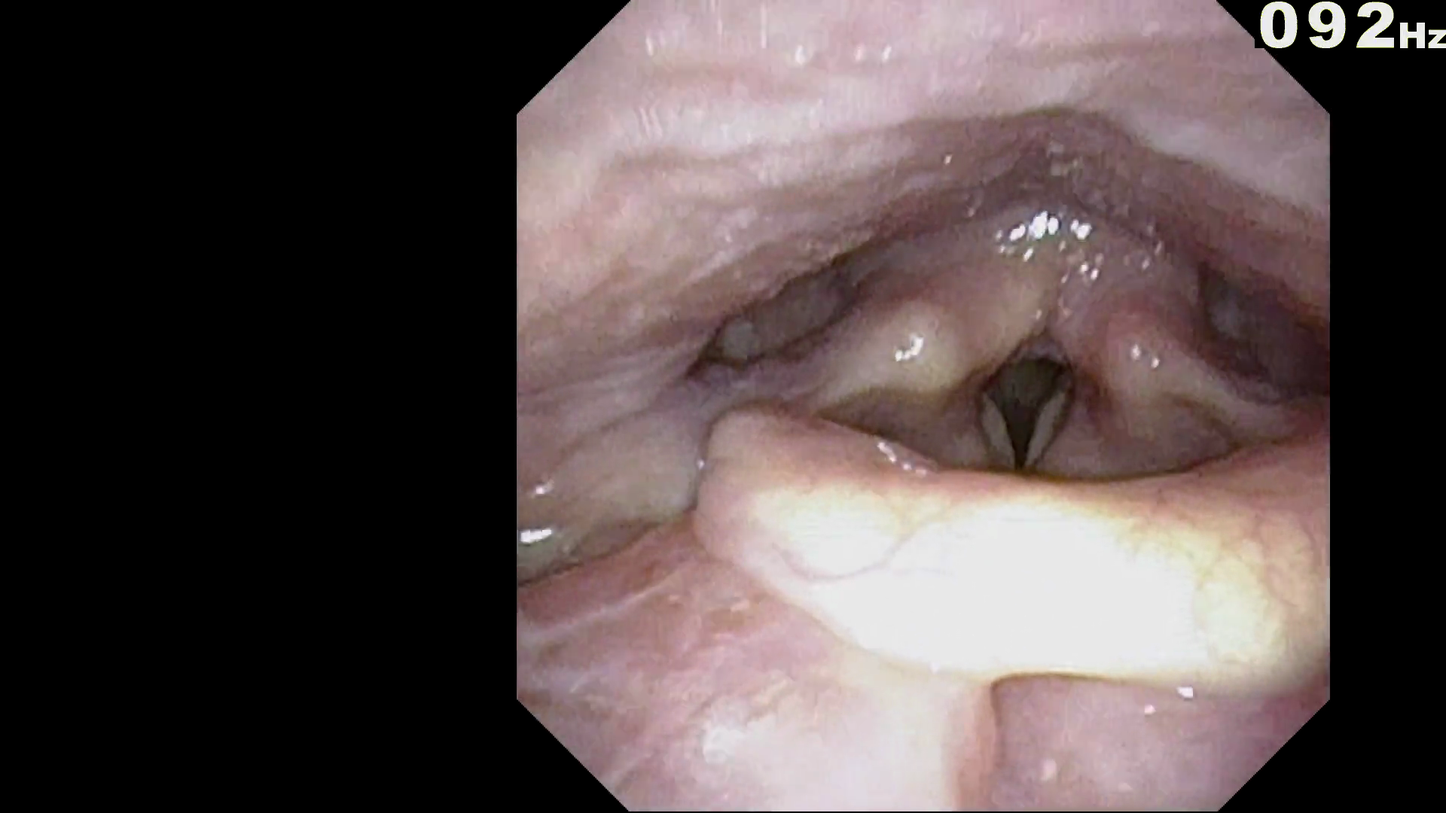epiglottis: (683, 365, 1329, 673)
trachea: (932, 288, 1112, 498)
